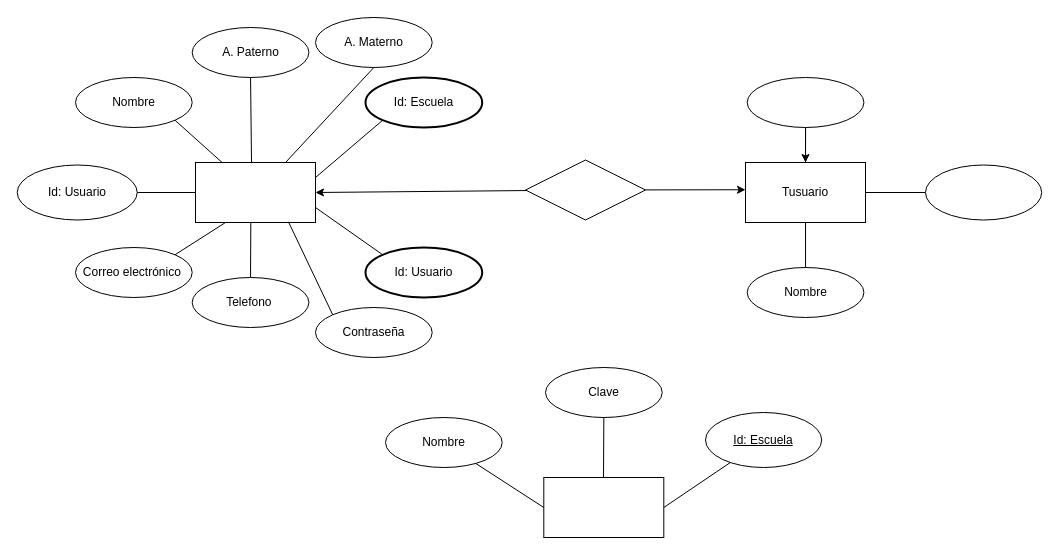
The diagram is 1060 pixels wide and 555 high, and some of its shapes have lost their labels. The box of each missing label's shape, as (x1, y1, x2, y2) in pixels:
Descripcion: (746, 76, 864, 128)
Escuela: (543, 476, 664, 538)
Id: Tusuario: (924, 164, 1042, 220)
Tiene: (524, 159, 646, 220)
Usuario: (194, 162, 316, 222)
